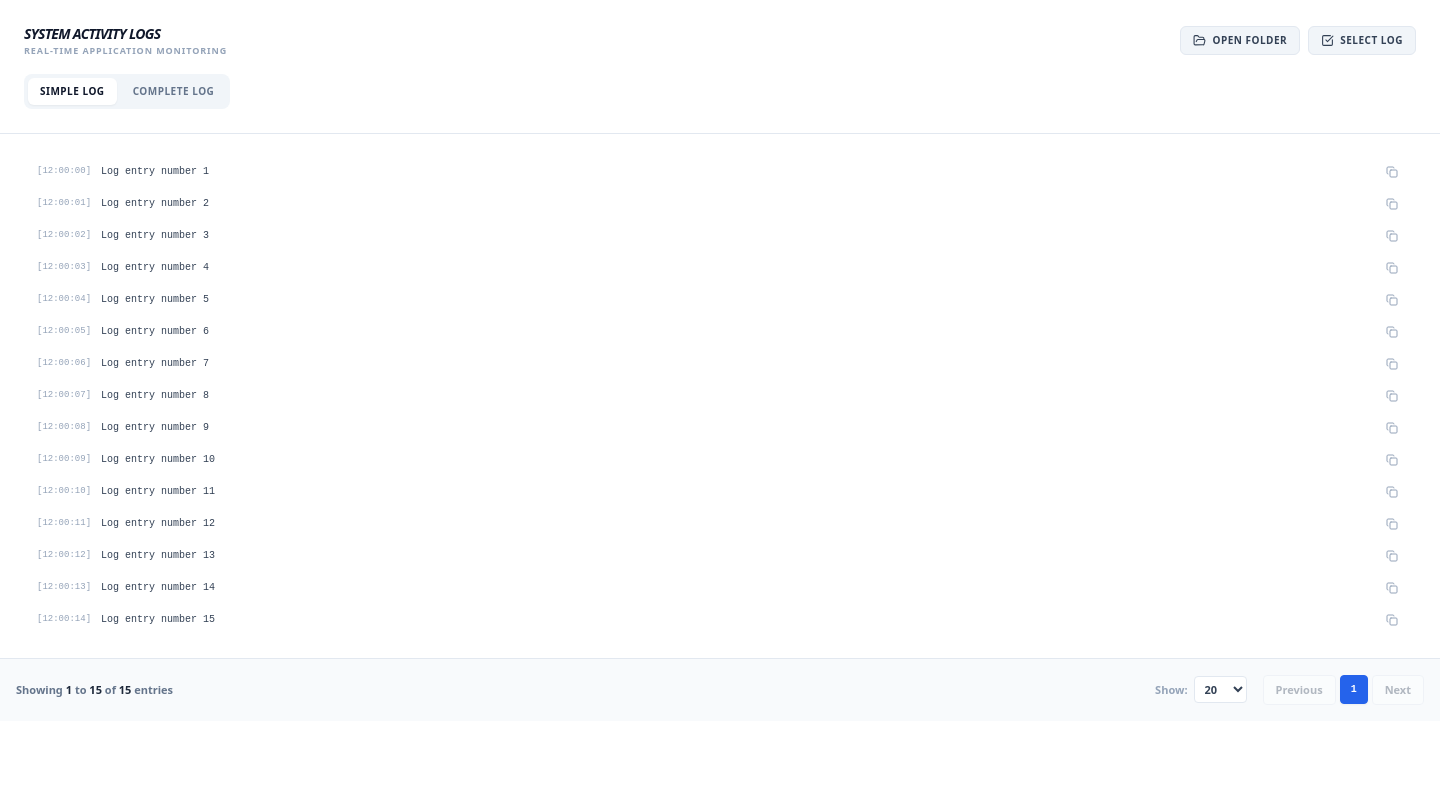
Test: LogViewer Component › Pagination and Ordering › supports page size dropdown changes
Change page size to 10
Select "10" in the dropdown: (1220, 690) [1194,676,1246,703]
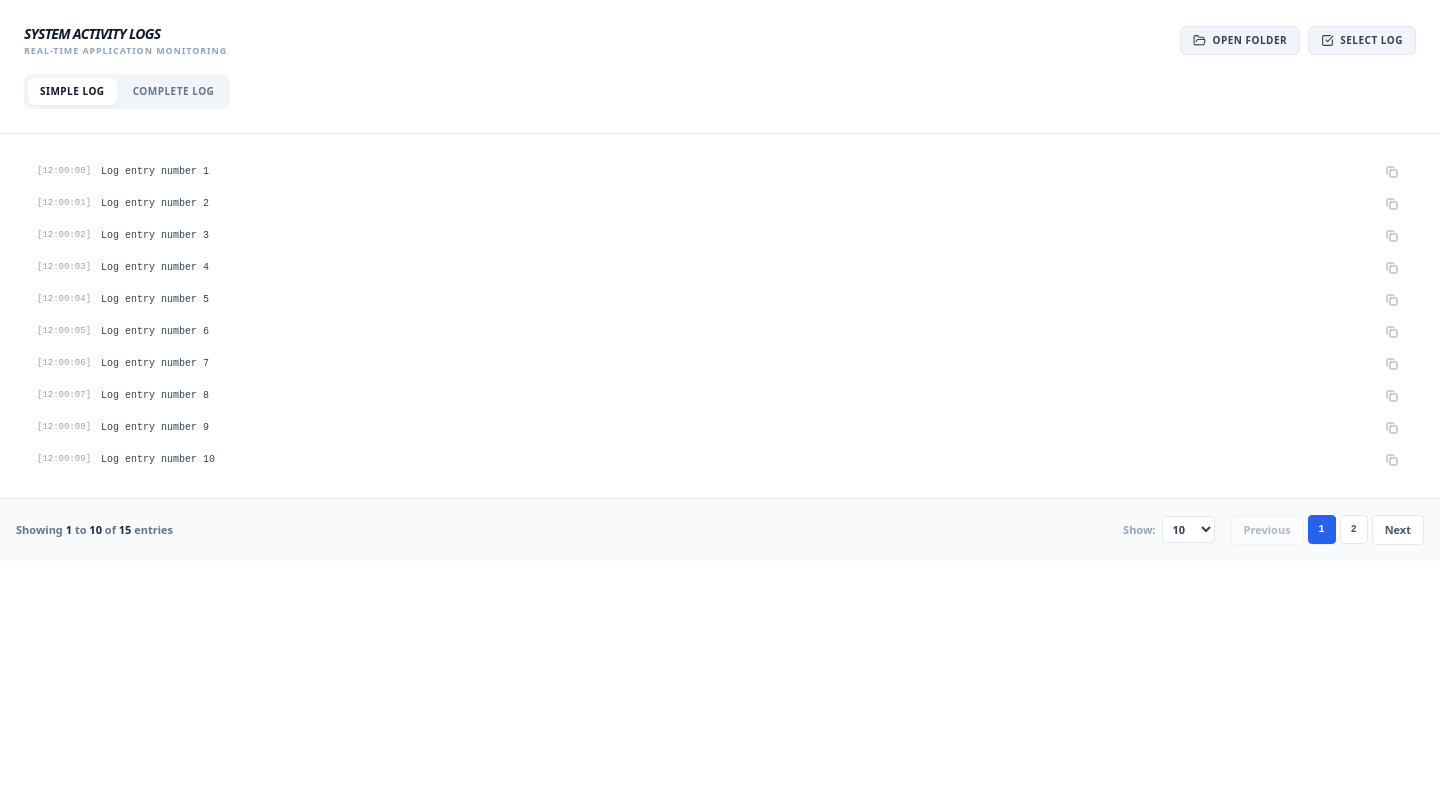
Expected: the text "Log entry number 1" is shown, [101,166,209,177]
Now the button "Log entry number 11" is gone
